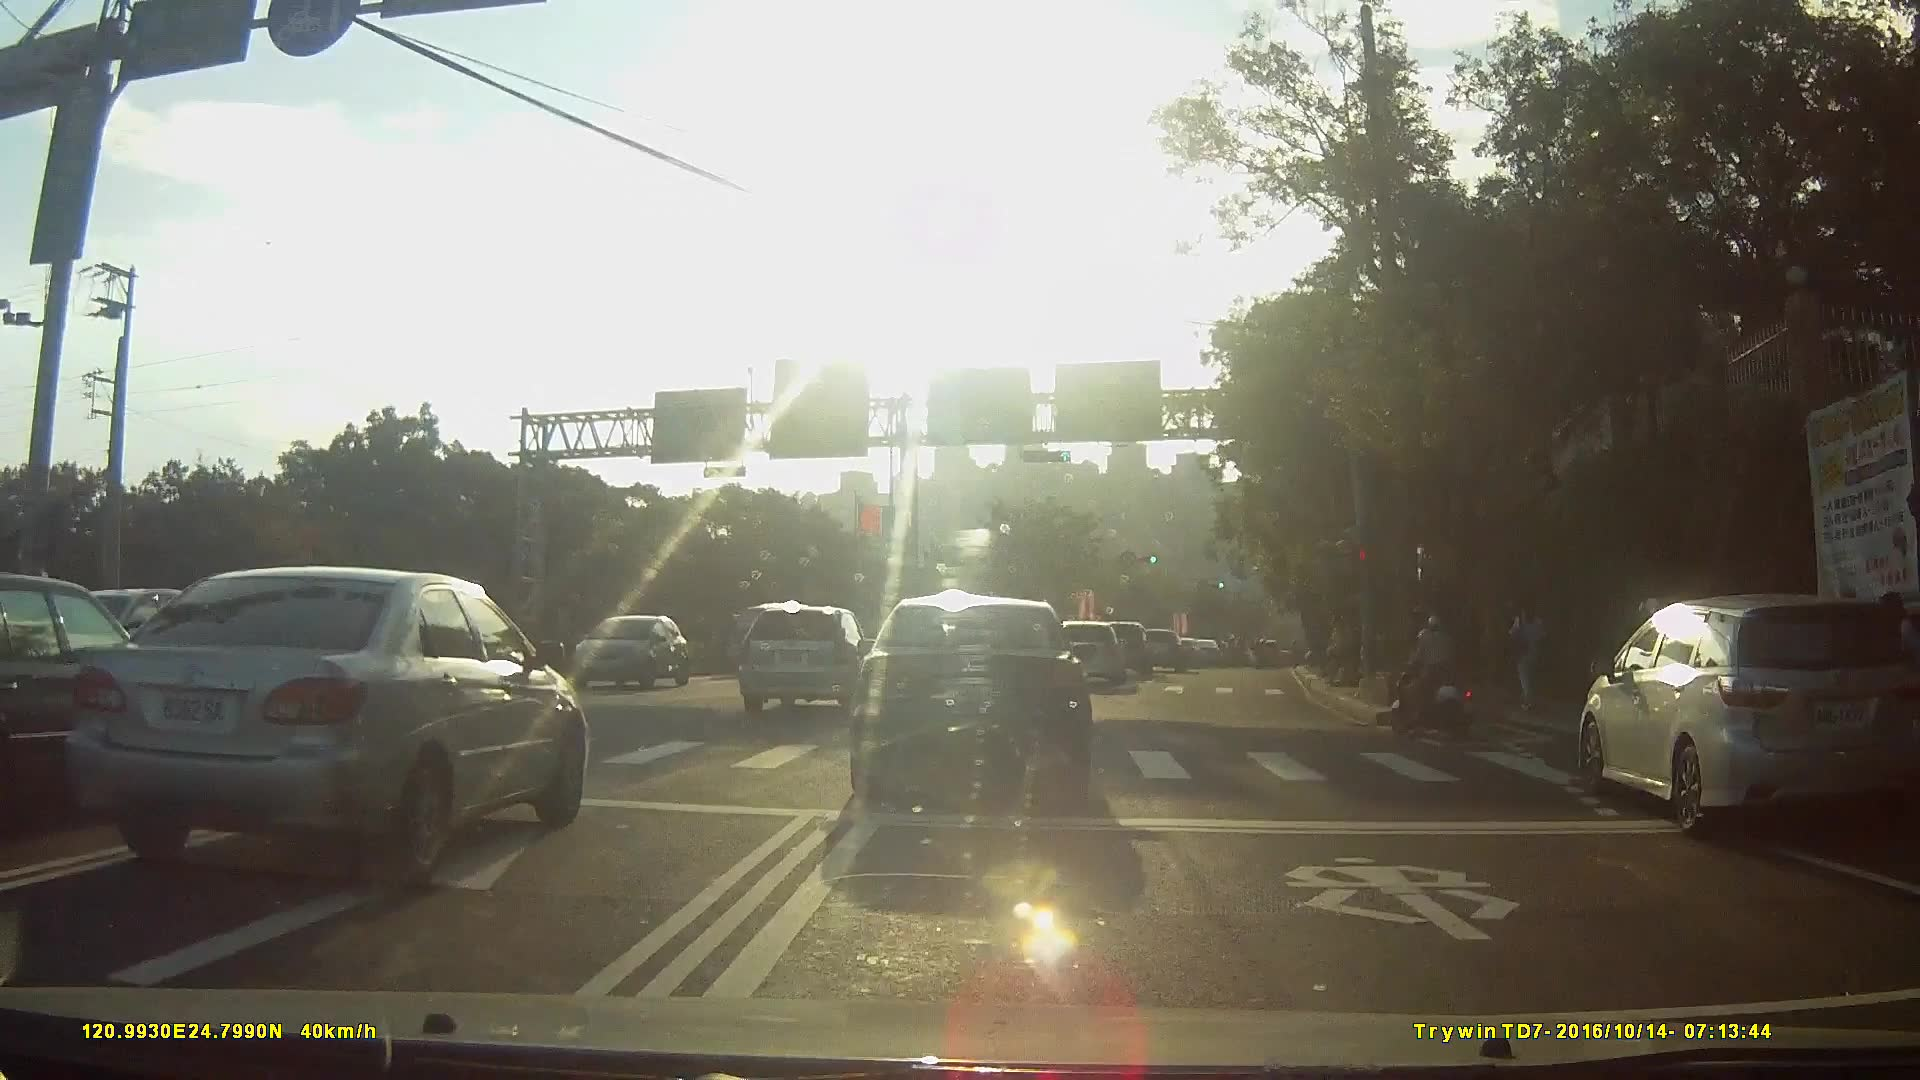pedestrian: (1507, 594, 1556, 720), (1884, 585, 1920, 745)
rider: (1393, 617, 1494, 749)
vehicle: (69, 568, 602, 881), (1570, 588, 1879, 861), (847, 598, 1111, 816), (1, 581, 183, 819), (747, 603, 890, 713), (570, 615, 712, 701), (1060, 622, 1134, 692), (1102, 620, 1164, 678), (1141, 627, 1198, 672), (1194, 638, 1231, 666)
